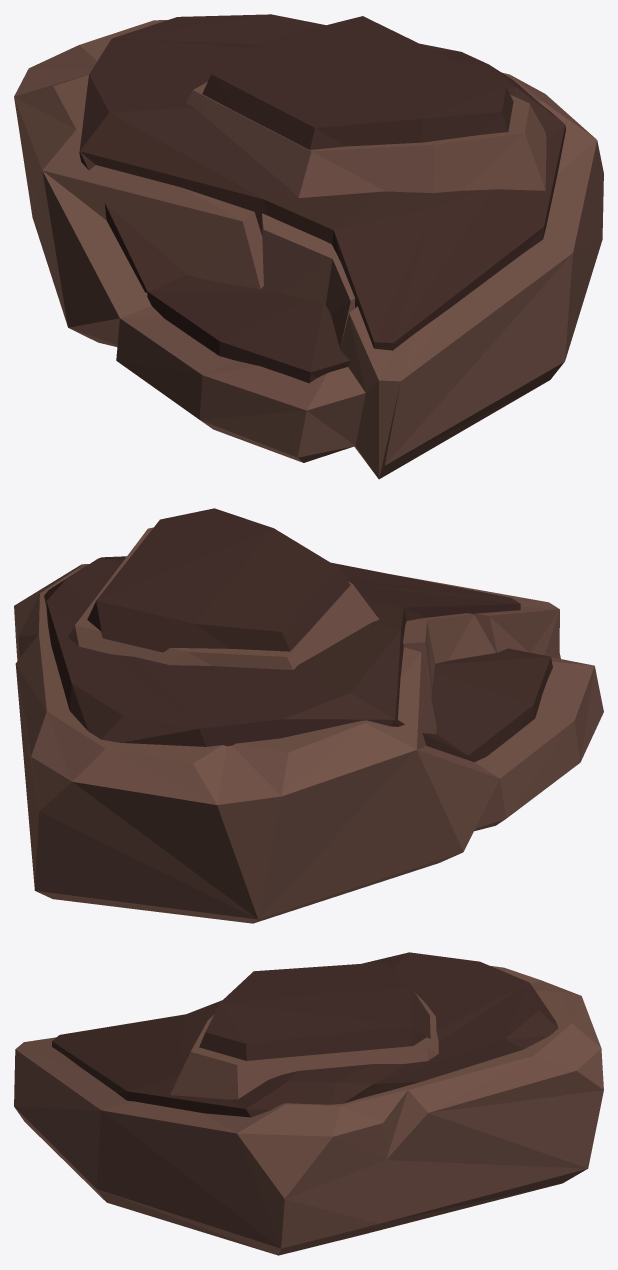
File: Brown_rock_005.fbx
3 renders of one model, top to bottom at view 1: azimuth 30°, elevation 25°; view 2: azimuth 150°, elevation 25°; view 3: azimuth 270°, elevation 25°, orthographic. The views are drawn at different scales.
Visible parts, largest first — view 1: Brown_rock_005; view 2: Brown_rock_005; view 3: Brown_rock_005.
Boxes of the visible parts, box(x1,y1,x2,y2) form: Brown_rock_005: box(14, 14, 603, 479); Brown_rock_005: box(14, 508, 603, 923); Brown_rock_005: box(14, 952, 603, 1255).
Size of the model in its own units: 342 by 442 by 152.
